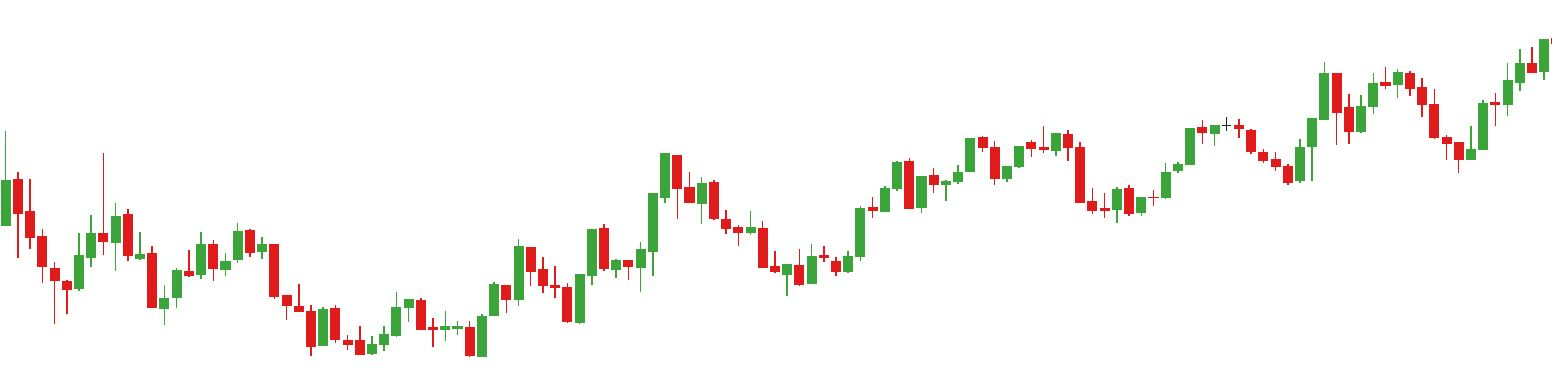buy: (1344, 86, 1490, 172), (64, 211, 171, 328), (500, 256, 587, 326)
